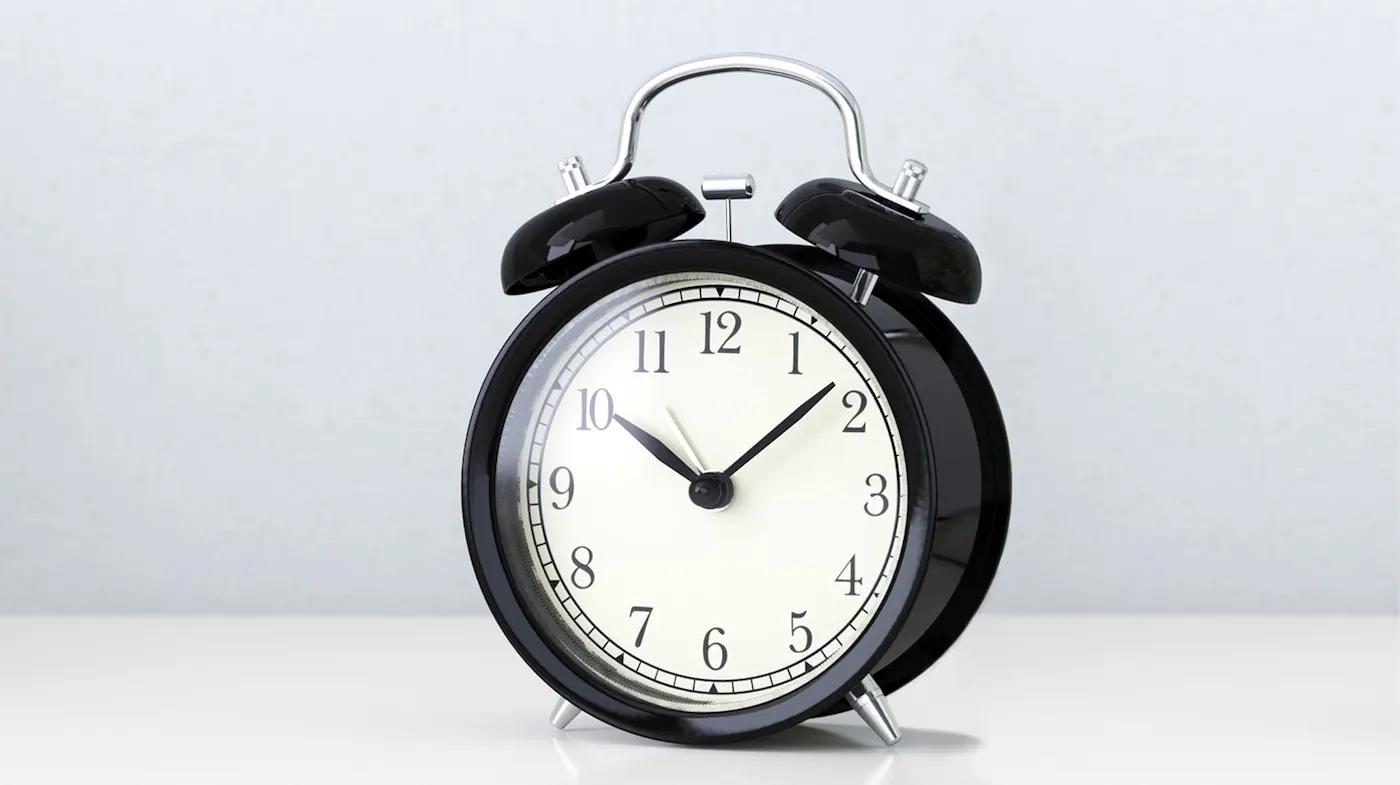clock: (448, 52, 1023, 755)
